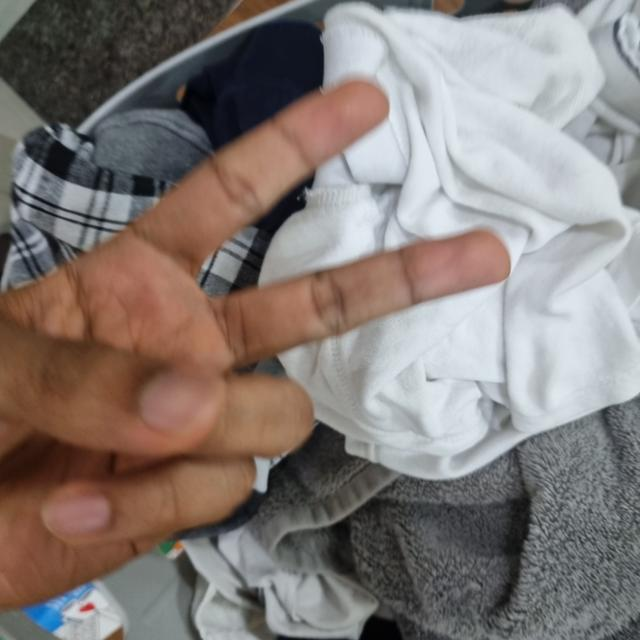Scissors: (0, 78, 514, 632)
